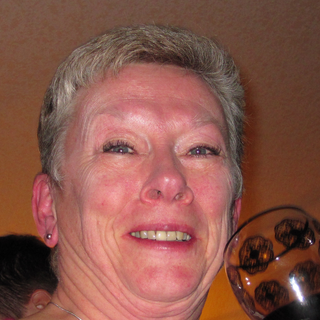eye: (97, 138, 142, 162), (182, 140, 226, 164)
